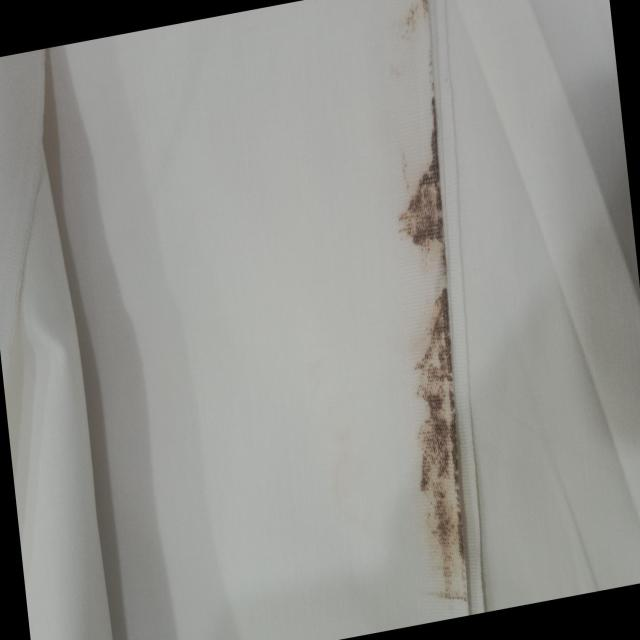stain: (364, 0, 496, 623)
